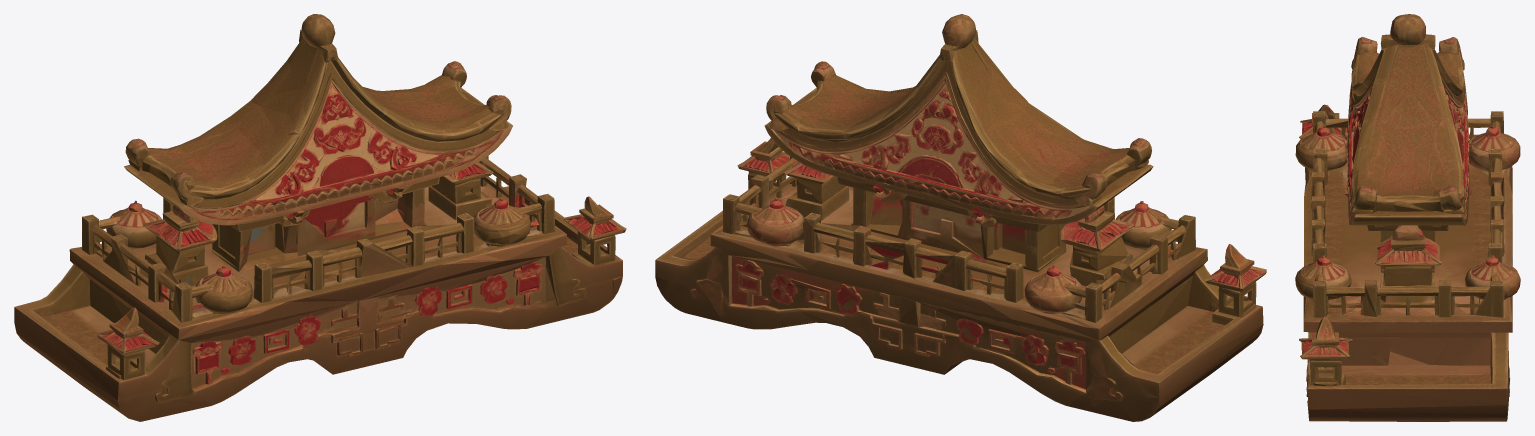
File: DEC_WOOD_ORNAMENT_001.glb
3 views of the same model, side by side, from view 1: azimuth 30°, elevation 25°; view 2: azimuth 150°, elevation 25°; view 3: azimuth 270°, elevation 25° (orthographic). The views are drawn at different scales.
Size of the model in its own units: 1.9 by 1.13 by 0.7681.
1 material, 1 textured.
